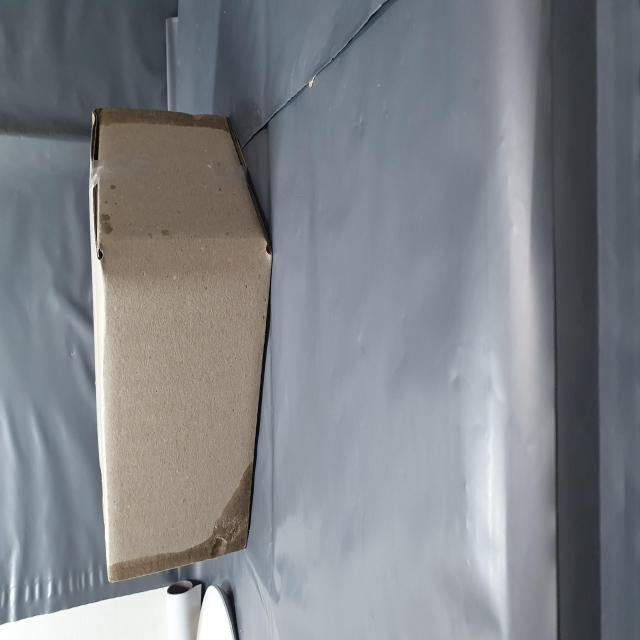wet: (34, 182, 93, 463)
